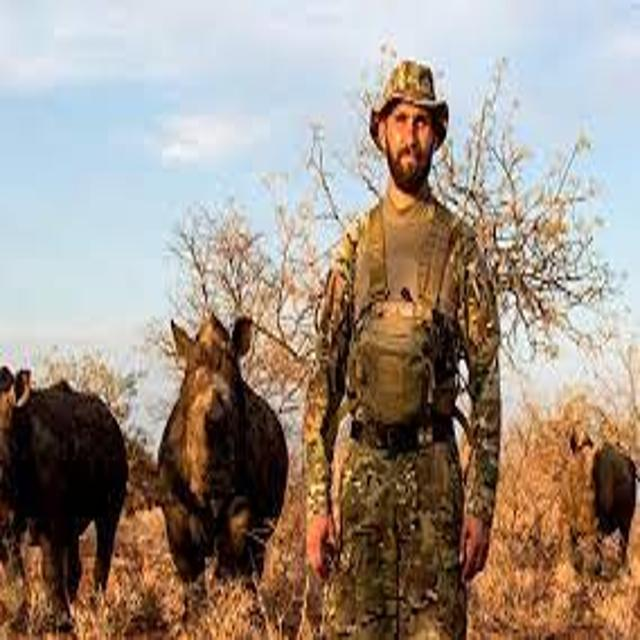ranger: (263, 47, 538, 633)
rhino: (115, 286, 315, 617), (1, 304, 150, 636), (527, 392, 640, 611)
